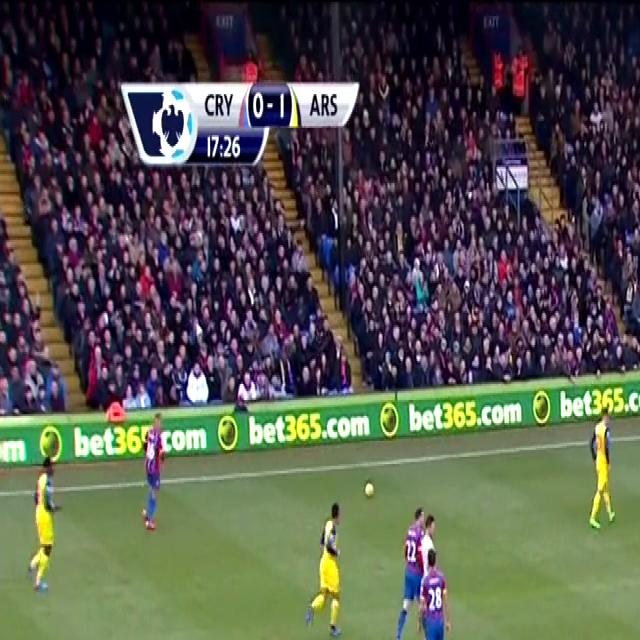ball: (359, 478, 380, 505)
soccer-player: (293, 498, 355, 640), (22, 467, 73, 603), (127, 419, 176, 538), (403, 560, 463, 640), (586, 409, 616, 547)
